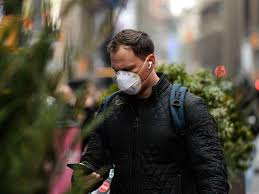with_mask: (108, 38, 160, 99)
